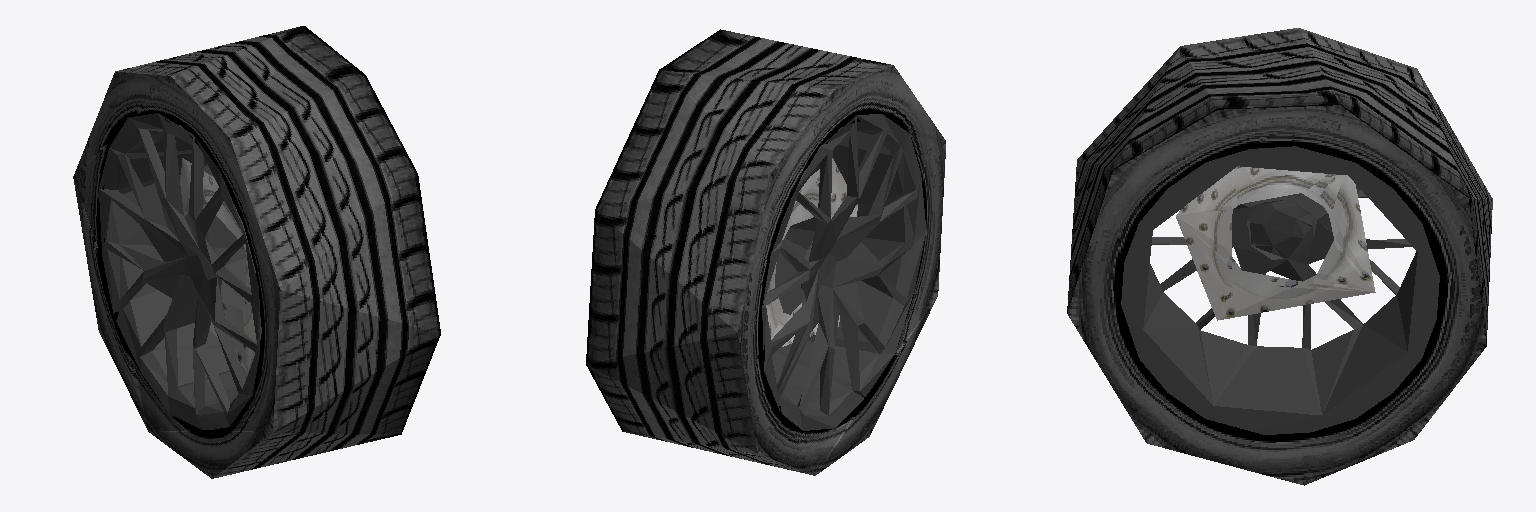
3 renders of one model, left to right at view 1: azimuth 30°, elevation 25°; view 2: azimuth 150°, elevation 25°; view 3: azimuth 270°, elevation 25°, orthographic.
Parts seen in each view (by area): view 1: XZ_wheel; view 2: XZ_wheel; view 3: XZ_wheel.
Boxes of the visible parts, box(x1,y1,x2,y2) form: XZ_wheel: box(73, 26, 440, 478); XZ_wheel: box(586, 29, 945, 475); XZ_wheel: box(1067, 28, 1492, 485).
Bounding box in the file's own units: 0.2848 × 0.6613 × 0.6673.
Materials: 1 (1 with a texture image).